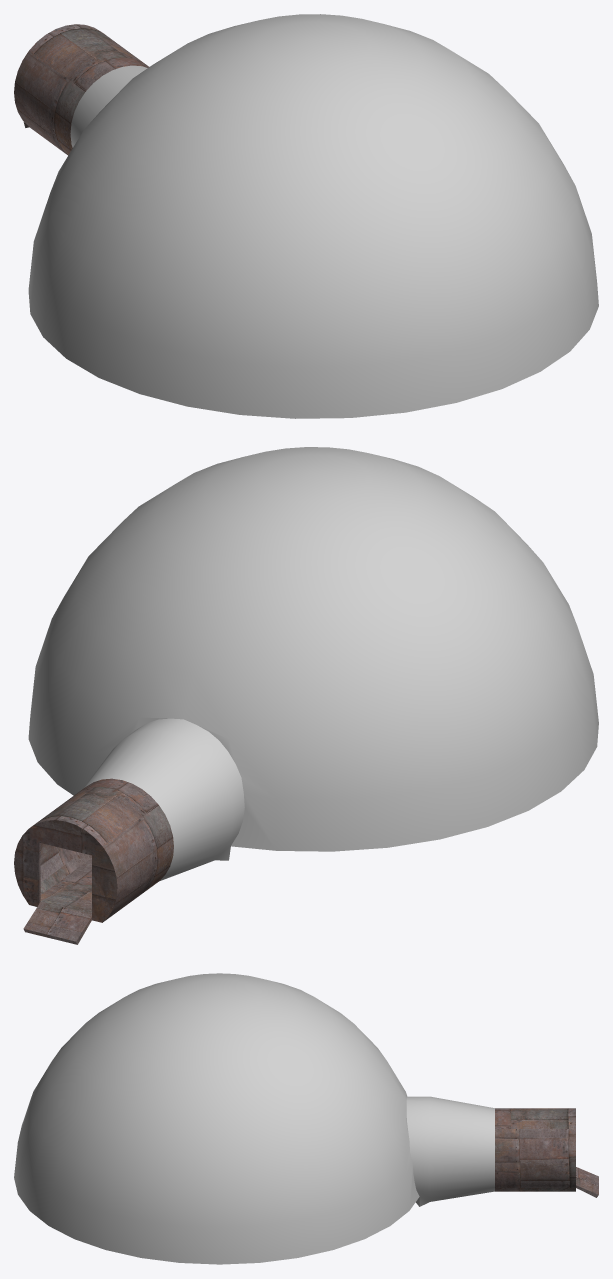
The model's file is BlockoutBase.fbx.
3 renders of one model, top to bottom at view 1: azimuth 30°, elevation 25°; view 2: azimuth 150°, elevation 25°; view 3: azimuth 270°, elevation 25°, orthographic. The views are drawn at different scales.
Parts seen in each view (by area): view 1: BlockoutBase; view 2: BlockoutBase; view 3: BlockoutBase.
Part boxes in pixels (<box>): BlockoutBase: <box>14,14,598,418</box>; BlockoutBase: <box>14,447,598,944</box>; BlockoutBase: <box>14,973,598,1264</box>.
Size of the model in its own units: 9.56 by 5.04 by 13.6.
